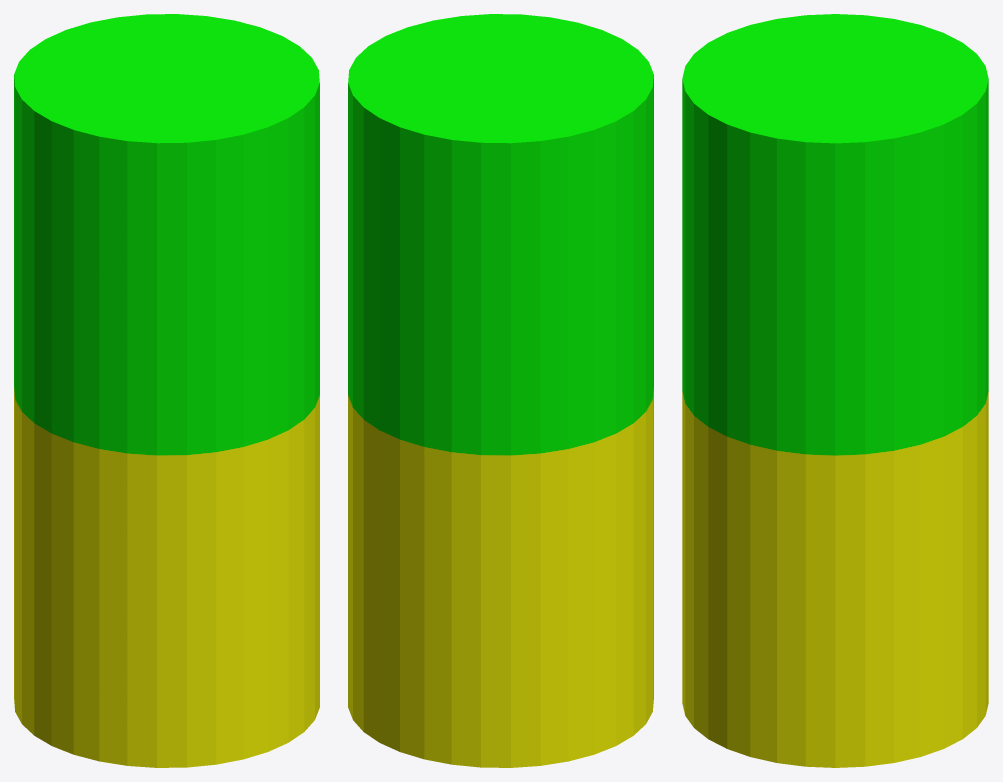
The model's file is beacon3.obj.
3 renders of one model, left to right at view 1: azimuth 30°, elevation 25°; view 2: azimuth 150°, elevation 25°; view 3: azimuth 270°, elevation 25°, orthographic.
Parts seen in each view (by area): view 1: beacon3; view 2: beacon3; view 3: beacon3.
Boxes of the visible parts, x1,y1,x2,y2 form: beacon3: [14, 14, 319, 767]; beacon3: [348, 14, 653, 767]; beacon3: [682, 14, 988, 767].
Size of the model in its own units: 0.2 by 0.45 by 0.2.
Materials: 1 (1 with a texture image).
